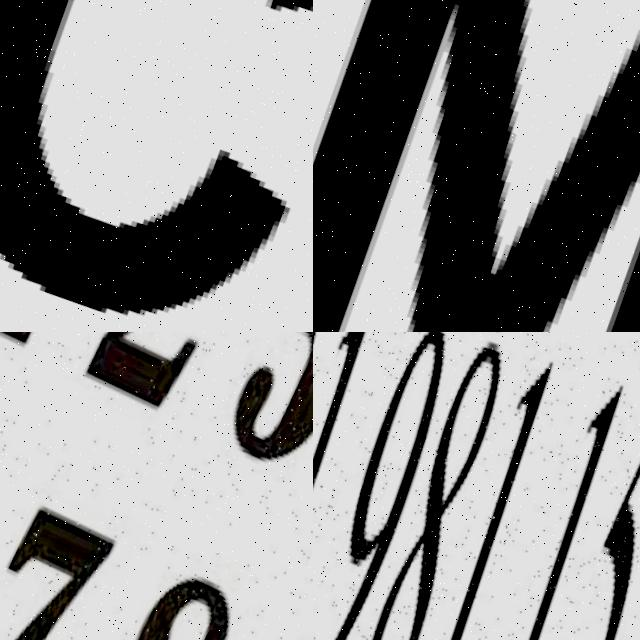1: (357, 345, 600, 640), (424, 374, 640, 640), (313, 332, 416, 640)
2: (53, 332, 294, 441), (313, 332, 375, 640)
3: (188, 332, 313, 502)
5: (470, 371, 640, 640)
7: (524, 411, 640, 640), (0, 471, 137, 640)
8: (313, 332, 551, 640), (26, 550, 258, 640)
9: (313, 332, 497, 640)
M: (313, 0, 640, 332)
